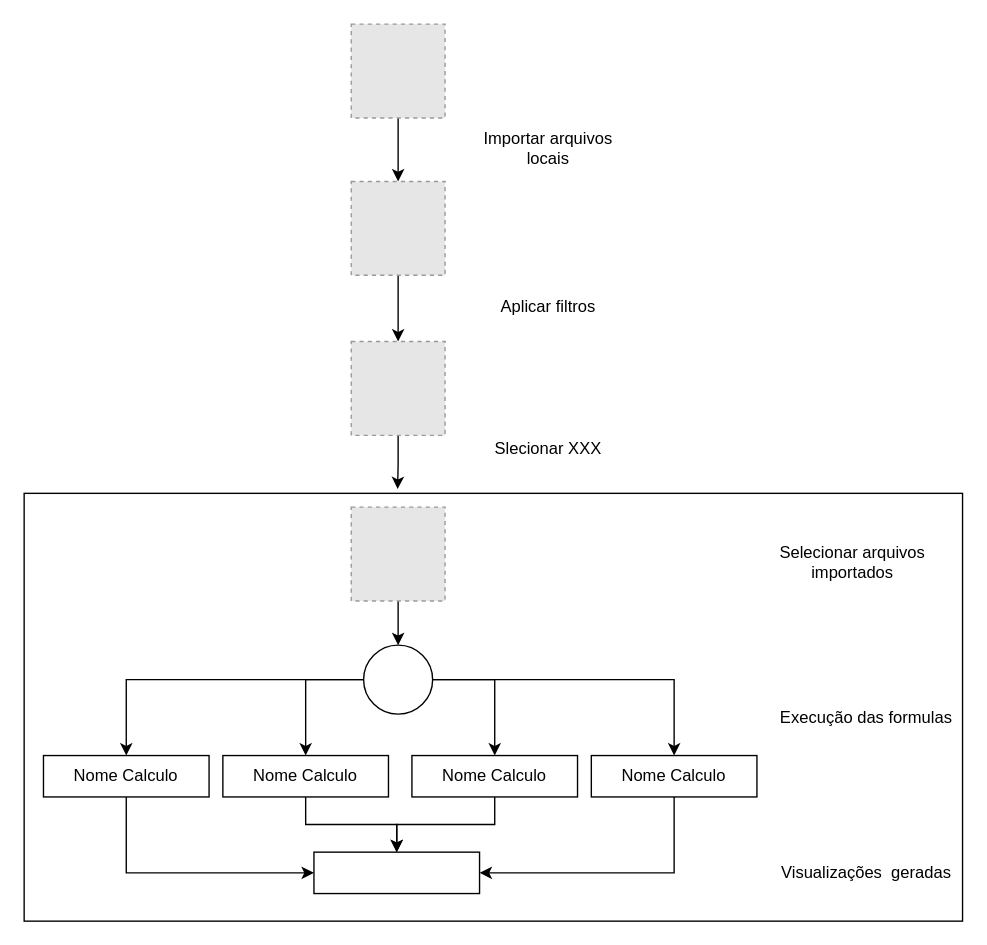
Image size: 987x945. Some labels were removed from this diagram. Grey dashed boxes stand in for pictures. The centre of each missing label's shape, as x and y in pixels:
"fn" goes at (x=397, y=679).
"Output" goes at (x=396, y=872).
